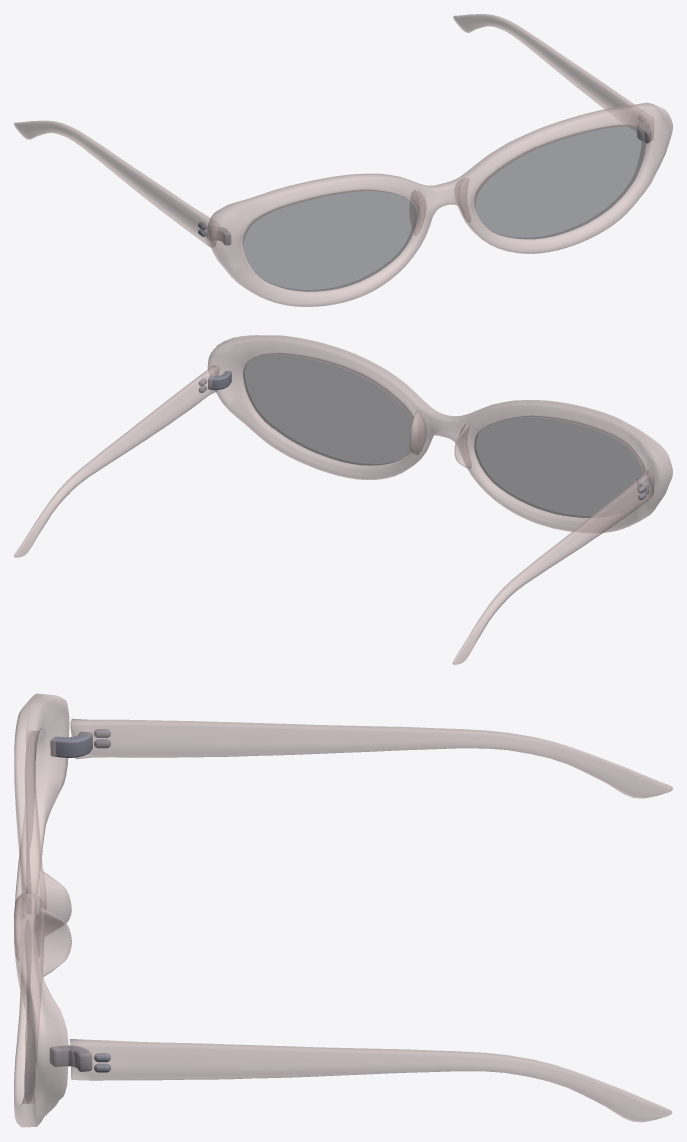
File: smoke.glb
3 renders of one model, top to bottom at view 1: azimuth 30°, elevation 25°; view 2: azimuth 150°, elevation 25°; view 3: azimuth 270°, elevation 25°, orthographic. The views are drawn at different scales.
Visible parts, largest first — view 1: model_6.003; view 2: model_6.003; view 3: model_6.003.
Boxes of the visible parts, bbox=[...] form: model_6.003: bbox=[14, 14, 672, 306]; model_6.003: bbox=[14, 335, 672, 664]; model_6.003: bbox=[14, 693, 672, 1127].
Size of the model in its own units: 2.21 by 0.5738 by 1.81.
